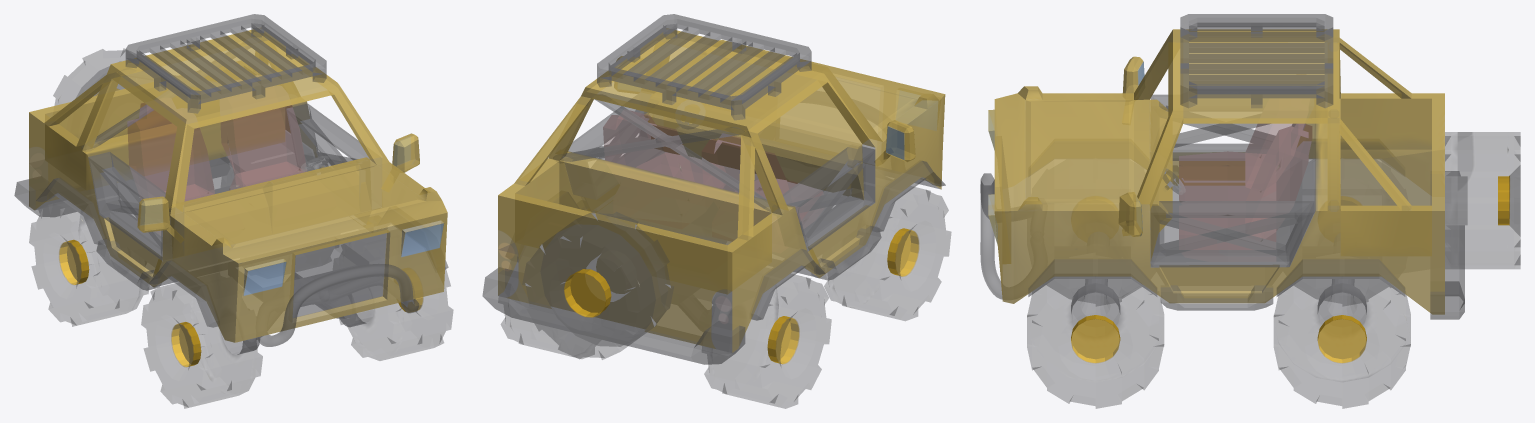
Rendered from car.glb.
3 views of the same model, side by side, from view 1: azimuth 30°, elevation 25°; view 2: azimuth 150°, elevation 25°; view 3: azimuth 270°, elevation 25° (orthographic). The views are drawn at different scales.
Visible parts, largest first — view 1: 車体, tire_RB, 天井, 椅子, tire_LF, ドア, シャーシ横, バンパー, ミラー, タイヤ後ろ, 柱; view 2: 車体, タイヤ後ろ, tire_LF, 天井, シャーシ横, tire_RB, ドア, 椅子, 柱, ミラー; view 3: 車体, tire_LF, tire_RB, 天井, 椅子, ドア, タイヤ後ろ, シャーシ横, ミラー, バンパー.
Part boxes in pixels (x1,y1,x2,y2): 車体: (29,29,447,342); tire_RB: (141,238,453,408); 天井: (125,14,326,113); 椅子: (127,103,306,234); tire_LF: (29,163,233,326); ドア: (88,103,381,260); シャーシ横: (14,131,448,327); バンパー: (257,264,419,346); ミラー: (137,133,419,242); タイヤ後ろ: (53,48,125,105); 柱: (81,69,153,150); 車体: (498,28,945,352); タイヤ後ろ: (522,211,673,359); tire_LF: (501,275,831,408); 天井: (597,14,811,120); シャーシ横: (482,136,945,364); tire_RB: (824,187,951,320); ドア: (568,106,875,251); 椅子: (603,110,823,227); 柱: (553,95,783,215); ミラー: (614,56,915,165); 車体: (988,29,1444,314); tire_LF: (1273,160,1410,408); tire_RB: (1027,229,1164,408); 天井: (1180,14,1333,108); 椅子: (1179,123,1311,261); ドア: (1150,94,1314,267); タイヤ後ろ: (1445,132,1520,268); シャーシ横: (1028,141,1464,319); ミラー: (1118,56,1144,236); バンパー: (980,173,1033,299).
Size of the model in its own units: 1.52 by 1.37 by 2.3.
2 materials, 2 textured.
